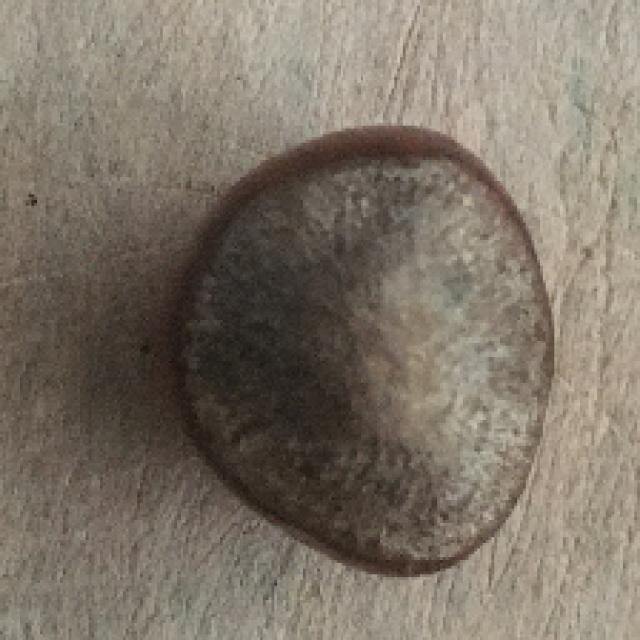qualityHazelnut: (172, 127, 556, 576)
